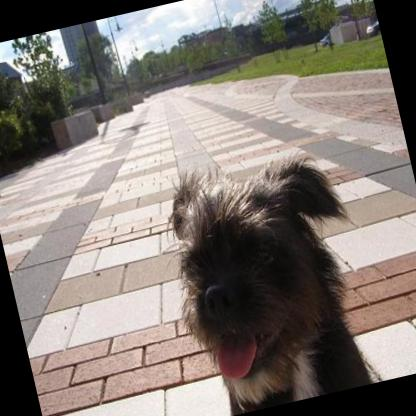affenpinscher: (145, 130, 391, 416)
